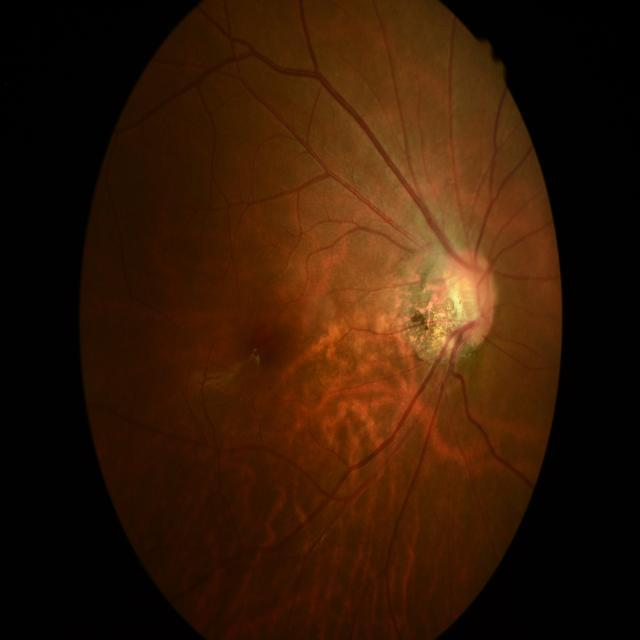cup: (461, 270, 486, 320)
disk: (456, 250, 496, 350)
